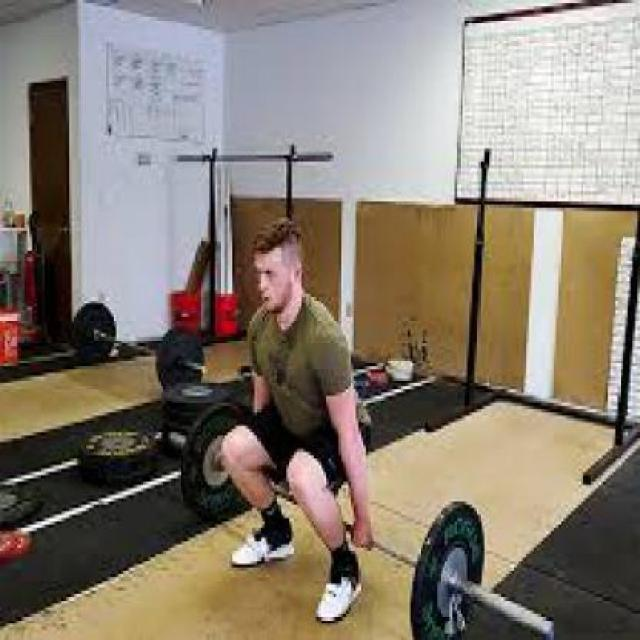Barbell: (531, 611, 564, 637)
